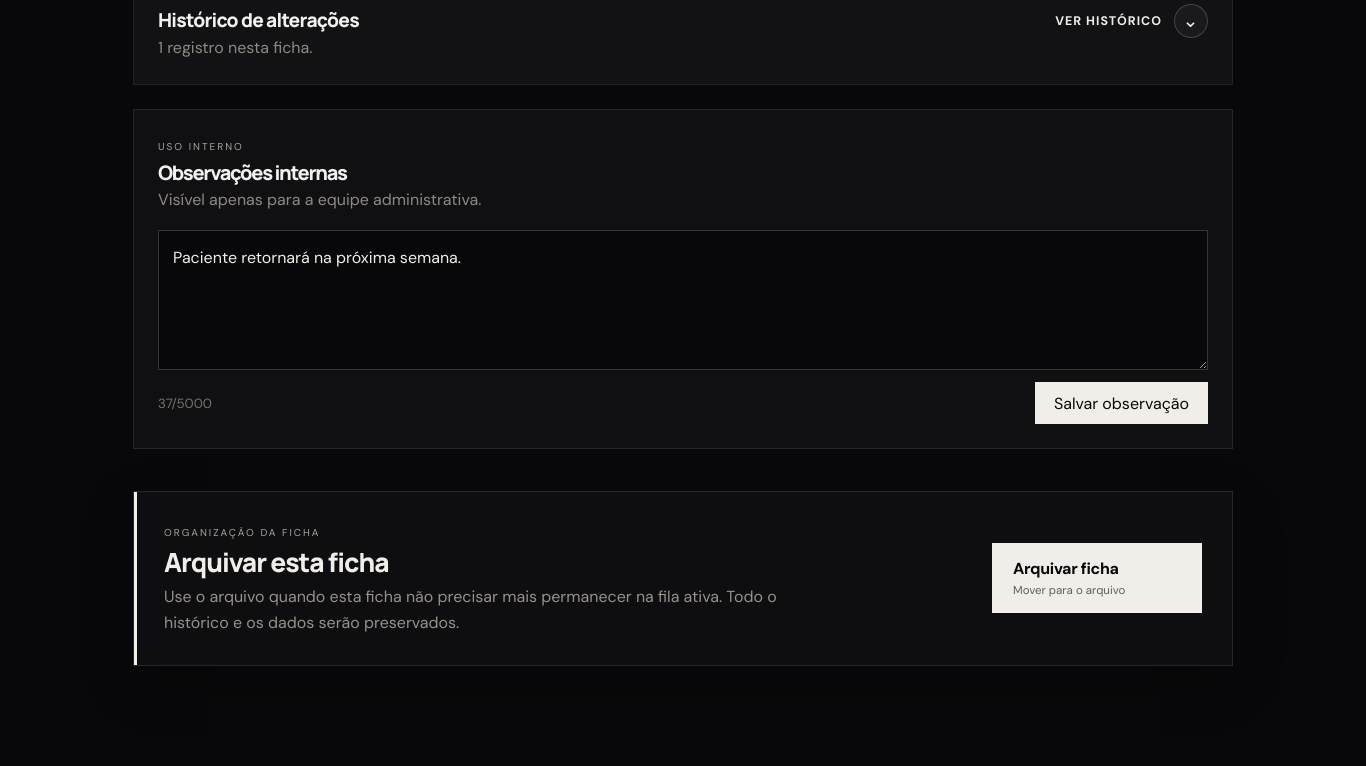
it: AdminTriageDetailPage › arquiva a ficha após confirmação e recarrega os dados
(page scrolled)
What coordinates should you click on to do the following:
click the button "Arquivar ficha Mover para o arquivo"
I would click on:
 (1097, 578)
Its box is x1=992 y1=544 x2=1202 y2=614.
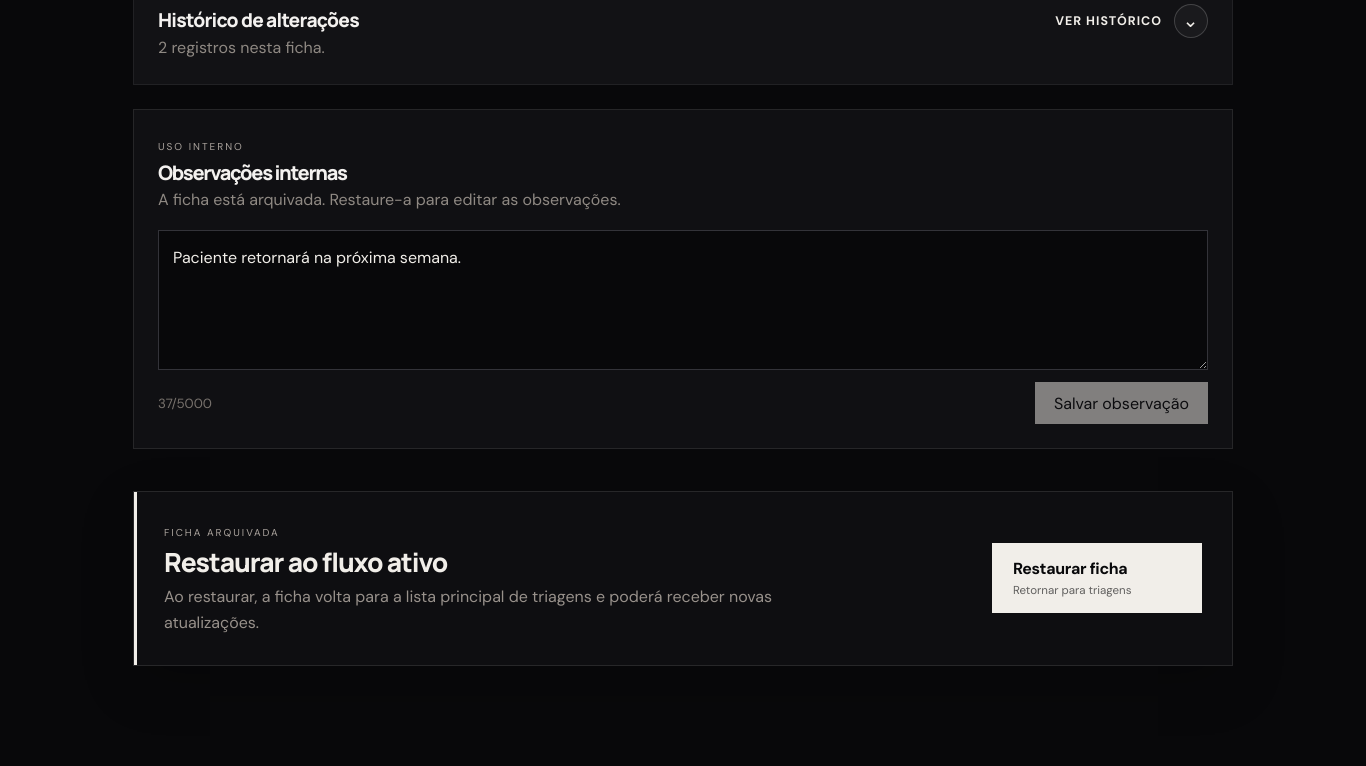
Check: the button "Restaurar ficha Retornar para triagens" is shown, box x1=992 y1=544 x2=1202 y2=614
